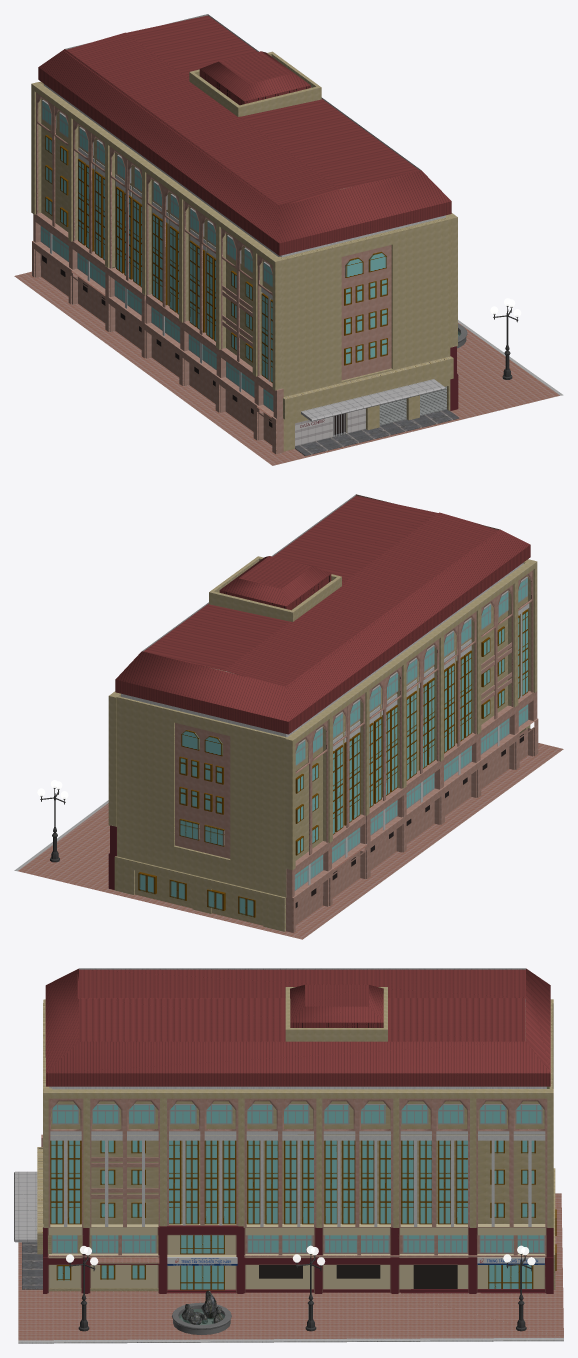
3 views of the same model, one above another, from view 1: azimuth 30°, elevation 25°; view 2: azimuth 150°, elevation 25°; view 3: azimuth 270°, elevation 25° (orthographic). The views are drawn at different scales.
Parts seen in each view (by area): view 1: DatacenterThuvien(Clone); view 2: DatacenterThuvien(Clone); view 3: DatacenterThuvien(Clone).
Boxes of the visible parts, bbox=[...] form: DatacenterThuvien(Clone): bbox=[14, 14, 563, 465]; DatacenterThuvien(Clone): bbox=[14, 494, 563, 939]; DatacenterThuvien(Clone): bbox=[14, 968, 563, 1343].
Bounding box in the file's own units: 1.43 × 1.2 × 2.22.
Materials: 21 (15 with a texture image).
